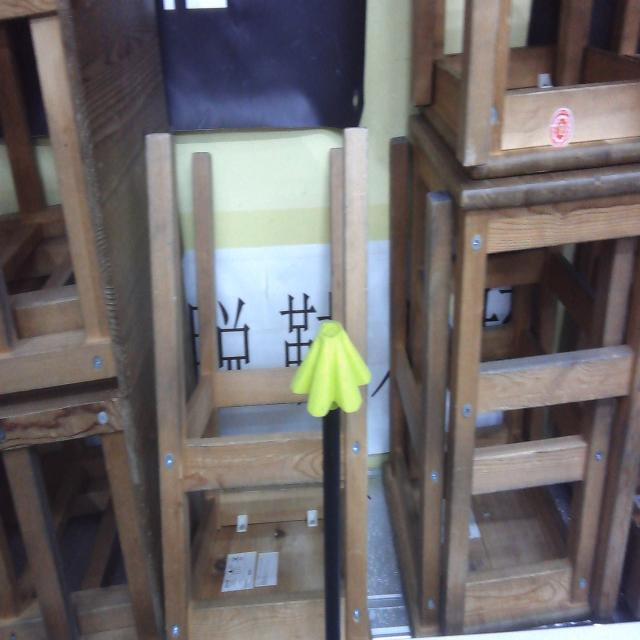Yellow-Stake-Head: (290, 320, 371, 418)
